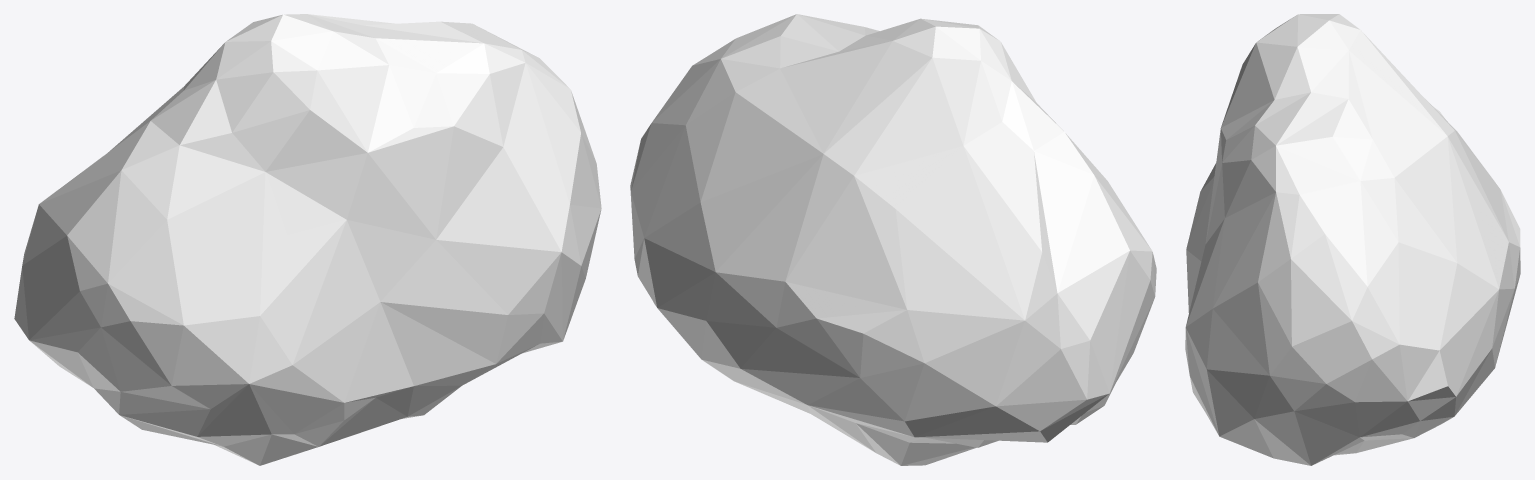
Rendered from cloud2.fbx.
3 views of the same model, side by side, from view 1: azimuth 30°, elevation 25°; view 2: azimuth 150°, elevation 25°; view 3: azimuth 270°, elevation 25° (orthographic). The views are drawn at different scales.
Parts seen in each view (by area): view 1: Cloud_01; view 2: Cloud_01; view 3: Cloud_01.
Boxes of the visible parts, x1,y1,x2,y2 form: Cloud_01: [14, 14, 601, 465]; Cloud_01: [630, 14, 1156, 465]; Cloud_01: [1185, 14, 1520, 465].
Bounding box in the file's own units: 163 × 134 × 98.54.
